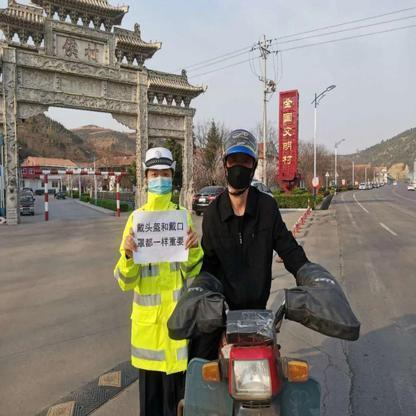target: (186, 127, 355, 412)
